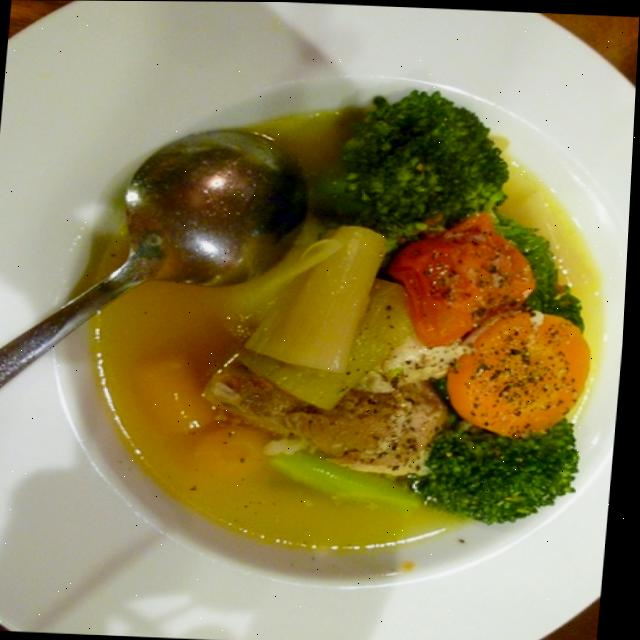汤锅炖物: (56, 63, 636, 583)
